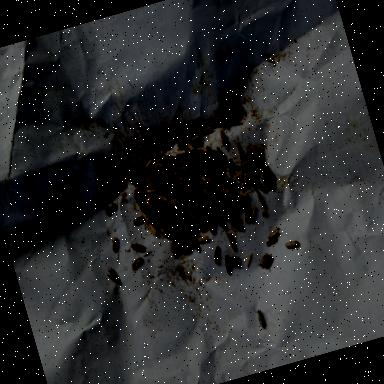pbw: (194, 151, 209, 173), (224, 207, 242, 225), (168, 196, 186, 214), (231, 193, 247, 211), (212, 144, 228, 162), (166, 182, 182, 200), (254, 305, 266, 329), (250, 171, 264, 191), (210, 244, 224, 264), (185, 206, 199, 226), (214, 212, 228, 231), (224, 228, 236, 250), (222, 254, 234, 276), (130, 240, 147, 255), (239, 192, 253, 210), (202, 174, 216, 192), (134, 122, 150, 137), (225, 157, 237, 177), (229, 216, 244, 232), (129, 257, 145, 272), (168, 236, 180, 256), (176, 206, 190, 223), (225, 253, 242, 267), (237, 171, 250, 189), (262, 252, 276, 268), (266, 226, 282, 240), (228, 113, 244, 127), (256, 252, 270, 268), (162, 136, 178, 150), (242, 206, 255, 223), (219, 128, 230, 148), (176, 163, 192, 176), (202, 204, 212, 224), (182, 222, 192, 242), (235, 142, 245, 162), (130, 150, 144, 164), (188, 177, 202, 191), (204, 194, 218, 208), (248, 206, 260, 222), (184, 140, 196, 156), (146, 220, 158, 236), (188, 126, 204, 138), (284, 238, 300, 250), (140, 209, 152, 225), (262, 159, 273, 176), (238, 154, 252, 167), (256, 146, 266, 164), (246, 144, 256, 162), (132, 188, 142, 206), (190, 234, 200, 252), (264, 236, 279, 248), (135, 140, 150, 152), (149, 146, 164, 158), (186, 222, 196, 240), (256, 190, 266, 208), (190, 190, 201, 206), (110, 235, 121, 251), (137, 199, 147, 216), (208, 218, 218, 235), (182, 125, 192, 142), (252, 162, 266, 174), (190, 138, 204, 150), (144, 176, 156, 190), (184, 148, 196, 162), (127, 154, 141, 166), (208, 204, 220, 218), (137, 135, 152, 146), (205, 160, 216, 175), (248, 178, 258, 194), (268, 174, 278, 190), (258, 168, 268, 184), (214, 112, 230, 122), (169, 160, 185, 170), (148, 130, 158, 146), (148, 164, 164, 174), (189, 204, 199, 220), (212, 161, 225, 173), (153, 160, 166, 172), (221, 114, 233, 127), (172, 208, 183, 222), (235, 168, 246, 182), (132, 164, 143, 178), (200, 125, 214, 136), (132, 214, 146, 225), (194, 201, 203, 218), (180, 242, 195, 252), (176, 226, 186, 241), (155, 208, 170, 218), (191, 222, 200, 238), (144, 158, 156, 170), (158, 192, 170, 204), (170, 217, 182, 229), (251, 144, 260, 160), (172, 242, 184, 254), (186, 170, 198, 182), (196, 204, 207, 217), (185, 192, 196, 205), (158, 142, 168, 156), (122, 137, 136, 147), (210, 148, 220, 162), (215, 158, 230, 167), (152, 219, 164, 230), (168, 152, 179, 164), (128, 174, 138, 187), (160, 180, 170, 193), (122, 148, 132, 161), (197, 170, 207, 183), (210, 178, 222, 188), (206, 120, 221, 128), (146, 187, 158, 197), (140, 197, 148, 212), (230, 180, 240, 192), (260, 182, 272, 192), (162, 216, 174, 226), (152, 130, 164, 140), (231, 106, 243, 116), (148, 210, 158, 222), (122, 168, 135, 177), (197, 234, 210, 243), (200, 183, 209, 196), (222, 104, 235, 113), (164, 171, 178, 179), (160, 168, 174, 176), (166, 174, 174, 188), (178, 172, 189, 182), (136, 187, 146, 198), (224, 186, 234, 197), (155, 133, 166, 143), (129, 142, 139, 153), (214, 179, 224, 190), (159, 226, 168, 238), (197, 188, 206, 200), (139, 150, 151, 159), (175, 152, 188, 160), (168, 222, 176, 235), (146, 201, 155, 212), (219, 184, 226, 198), (144, 194, 156, 202), (216, 196, 228, 204), (150, 141, 160, 150), (161, 154, 171, 163), (151, 173, 160, 183), (232, 162, 243, 170), (200, 213, 207, 225), (234, 168, 242, 178), (190, 134, 200, 142), (124, 172, 134, 180), (100, 201, 108, 210), (225, 110, 236, 116), (180, 197, 188, 205), (144, 154, 154, 160)
